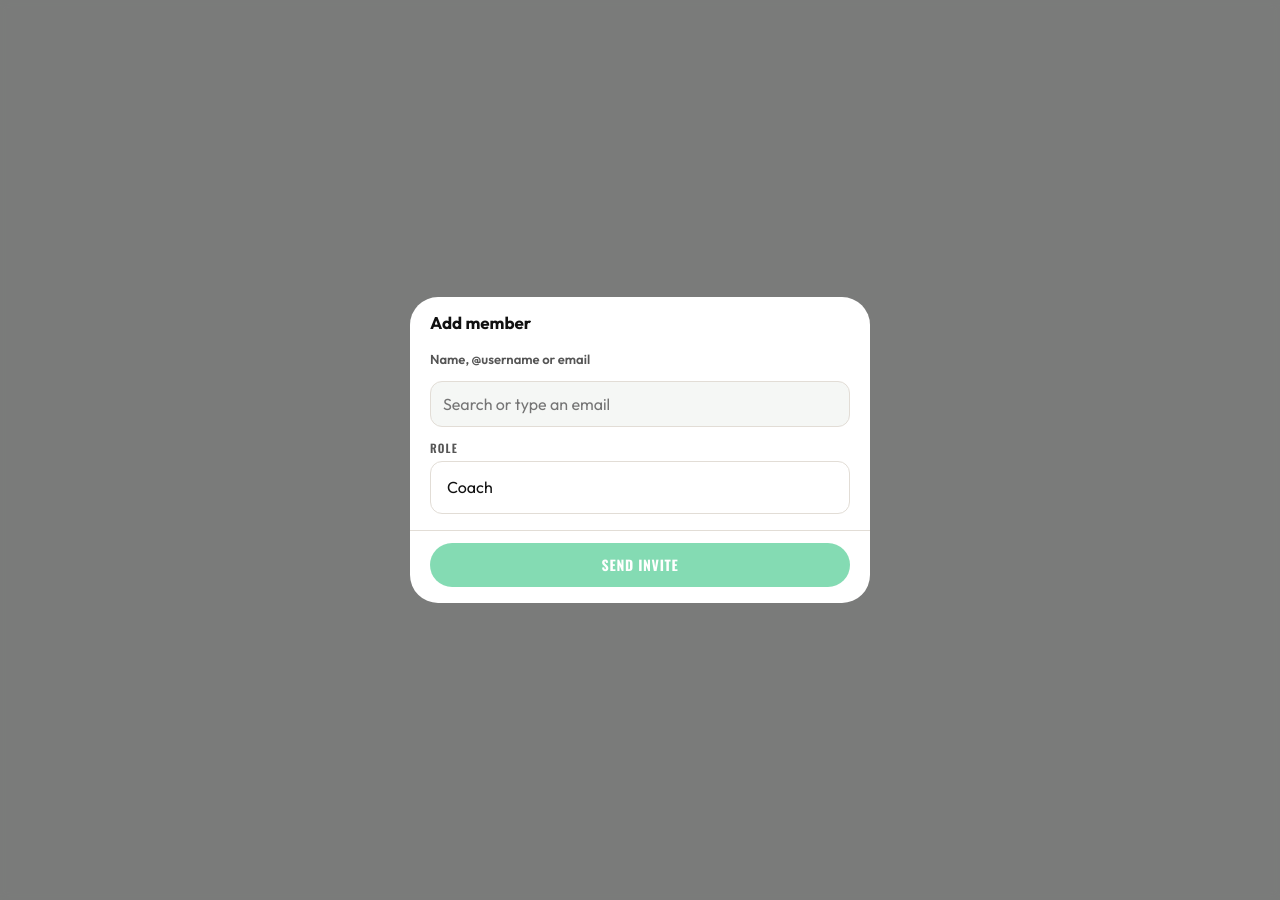
Test: AddMemberSheet: refusals › already_member reads as a sentence, in the sheet
This screenshot has width=1280, height=900.
In the field labelled "Name, @username or email": (640, 404) [430,381,850,427], type "new@else.example"
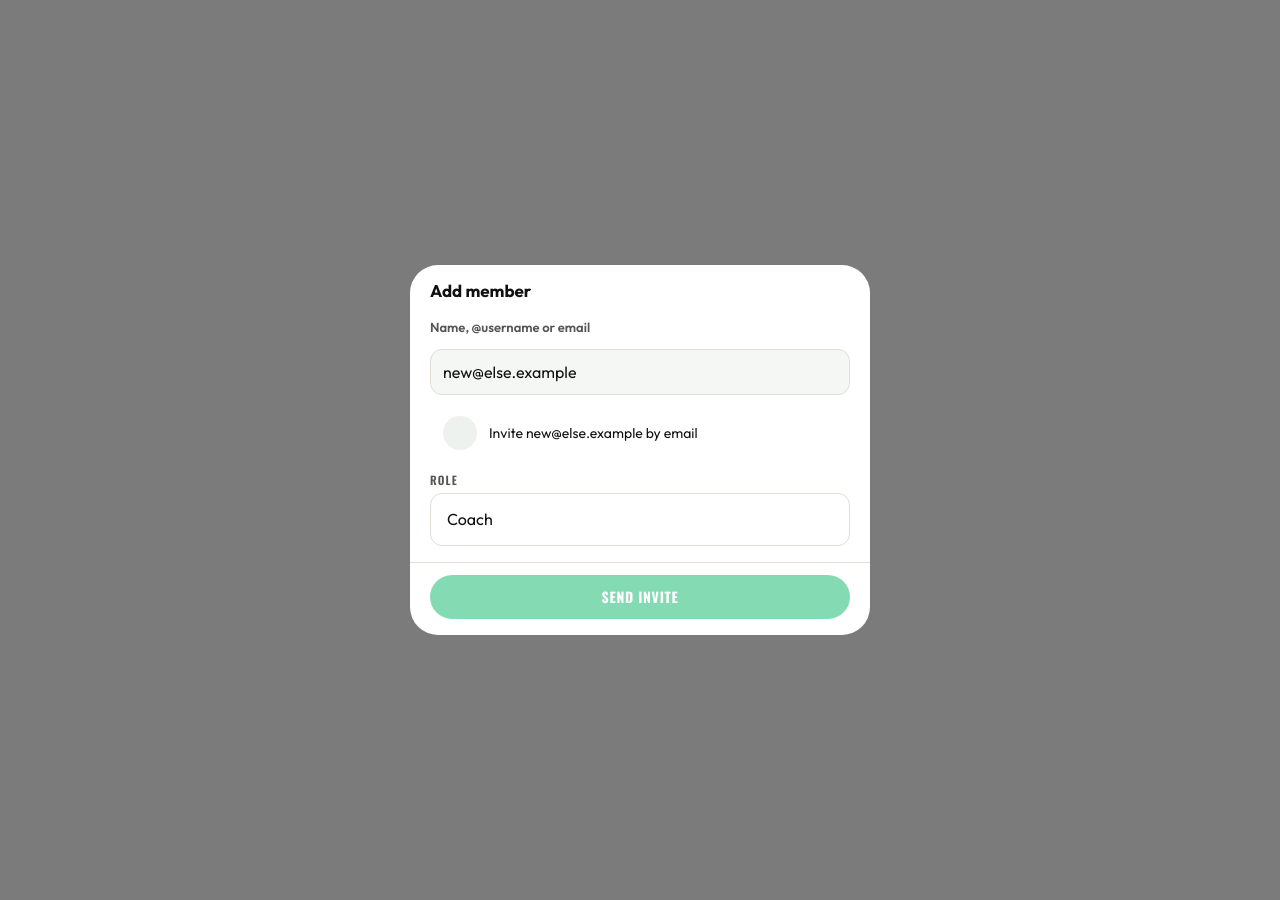
Click the button "Invite new@else.example by email": click(640, 433) [430,407,850,459]
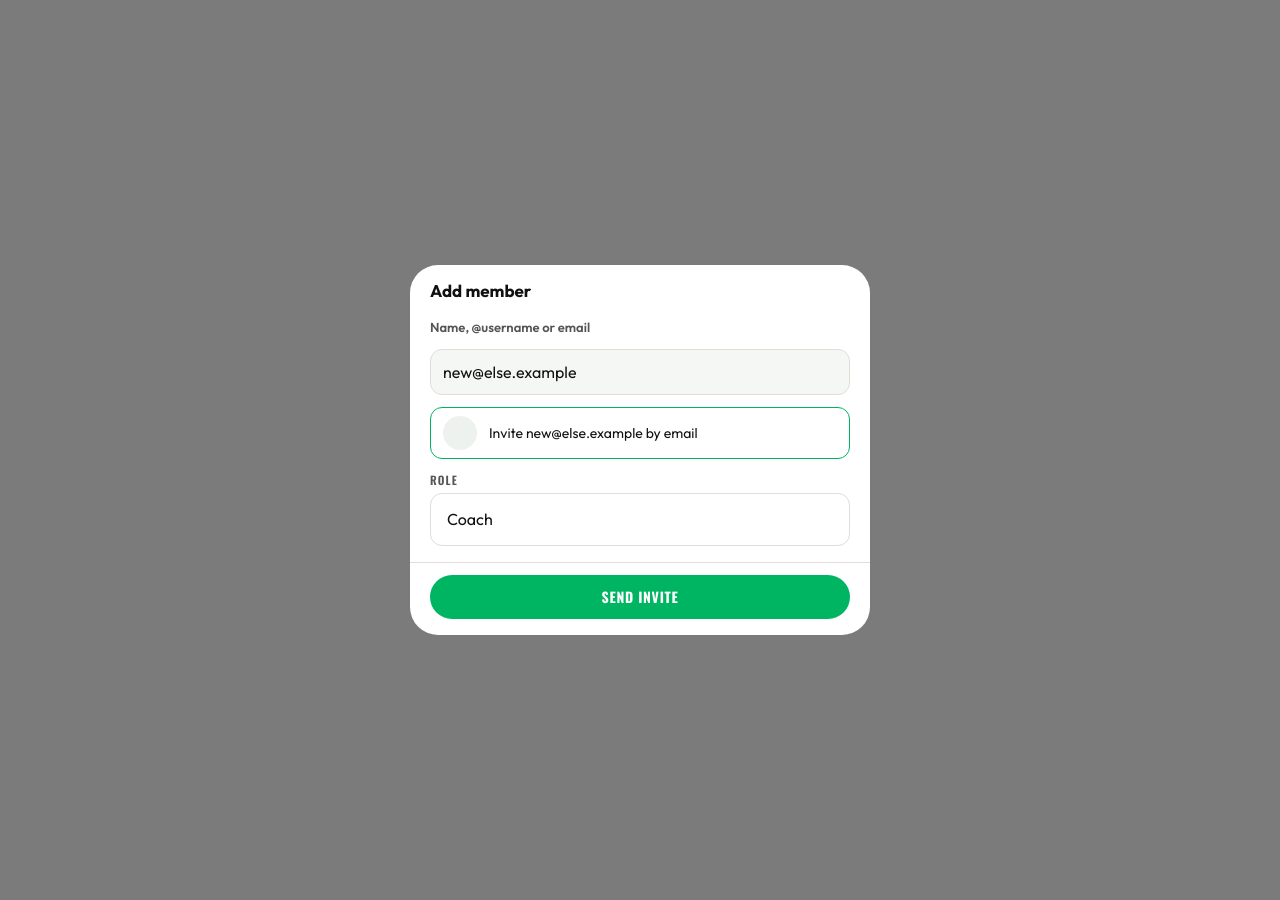
Click the button "Send invite": click(640, 597) [430,575,850,619]
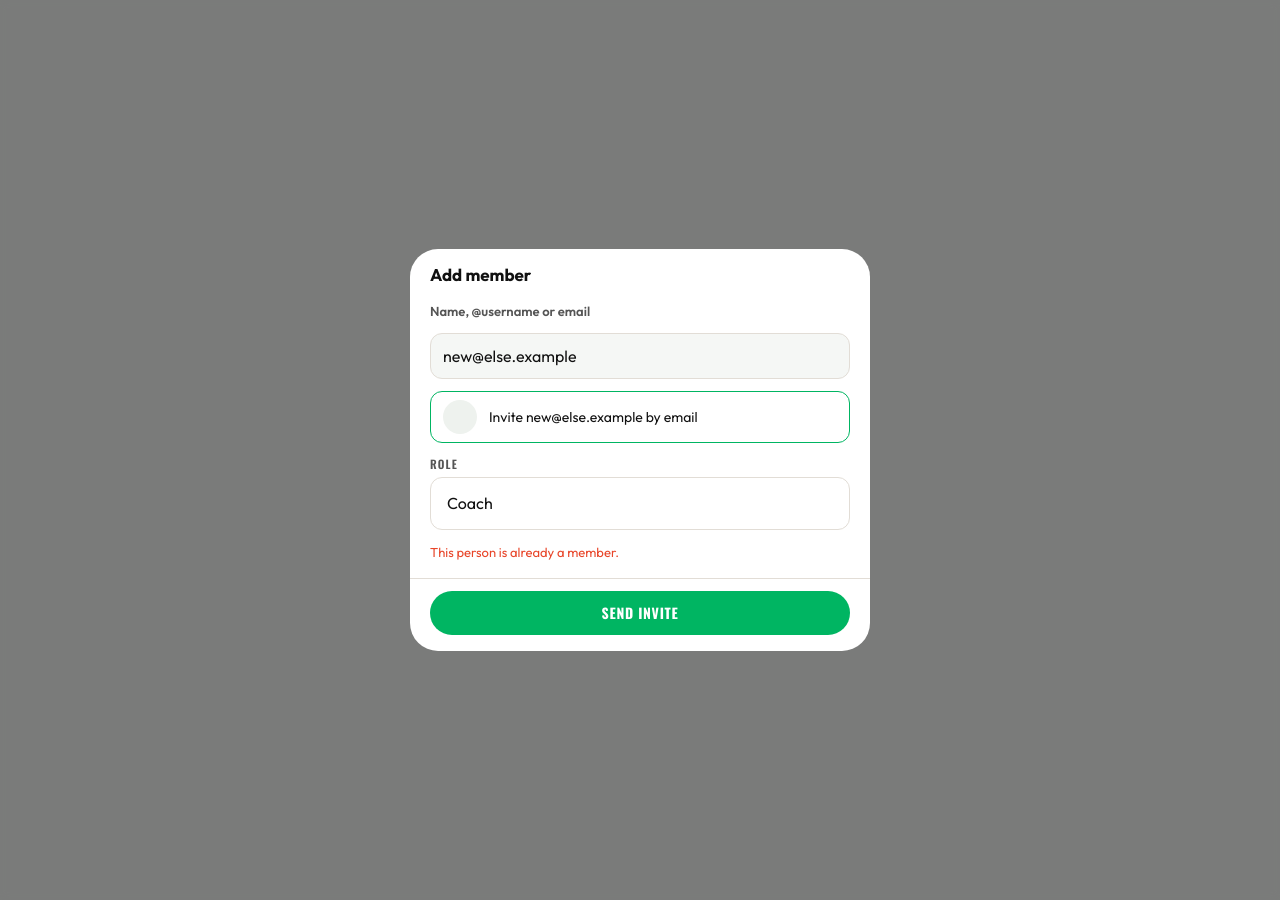
Expected: the message reads "This person is already a member.", [430,544,619,560]
